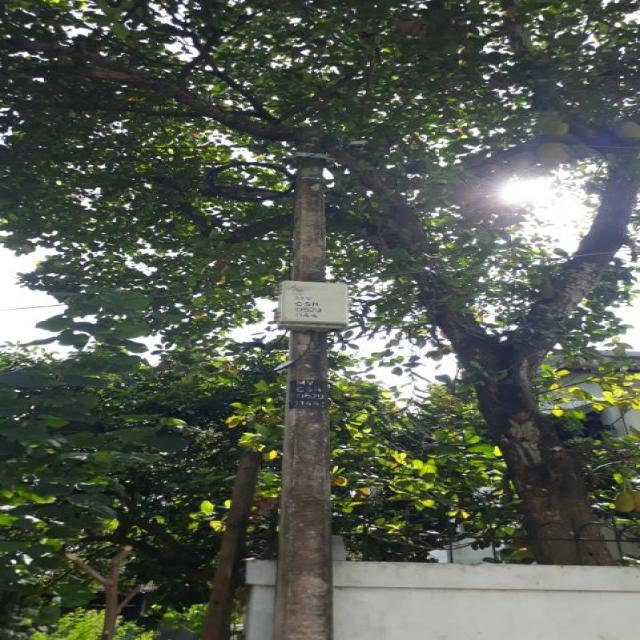light_pole: (268, 146, 353, 640)
